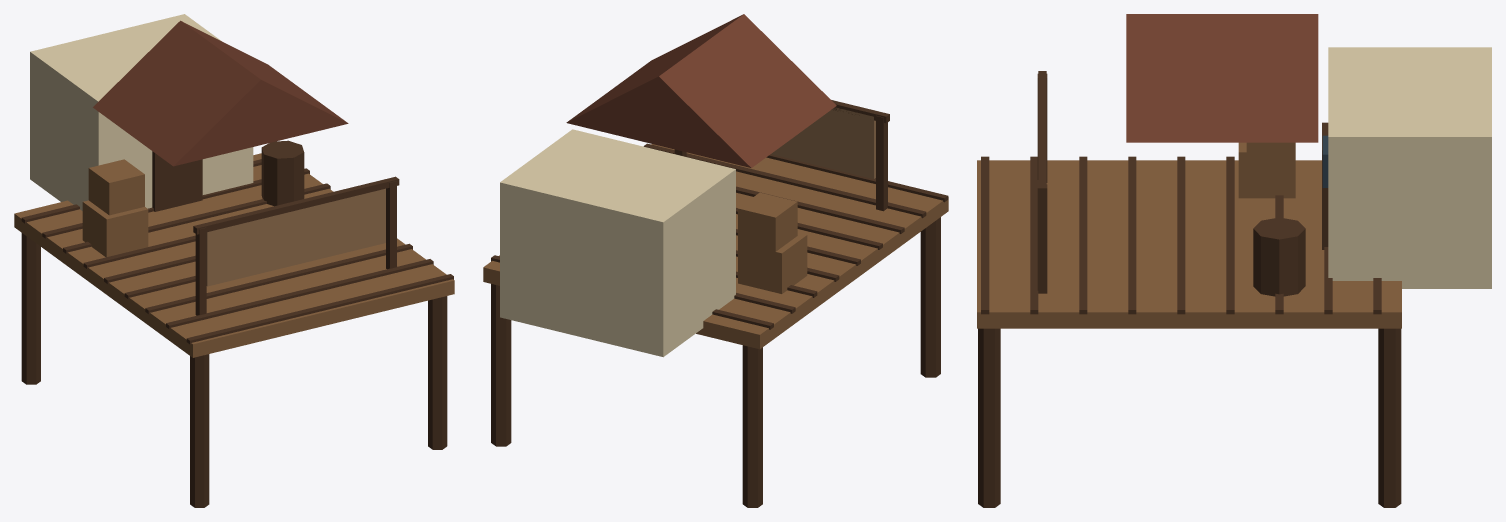
The model's file is dock.glb.
3 views of the same model, side by side, from view 1: azimuth 30°, elevation 25°; view 2: azimuth 150°, elevation 25°; view 3: azimuth 270°, elevation 25° (orthographic). The views are drawn at different scales.
Visible parts, largest first — view 1: dock; view 2: dock; view 3: dock.
Boxes of the visible parts, x1=… form: dock: x1=14, y1=14, x2=454, y2=507; dock: x1=483, y1=14, x2=948, y2=507; dock: x1=977, y1=14, x2=1491, y2=507.
Size of the model in its own units: 4.44 by 5.68 by 6.3.
